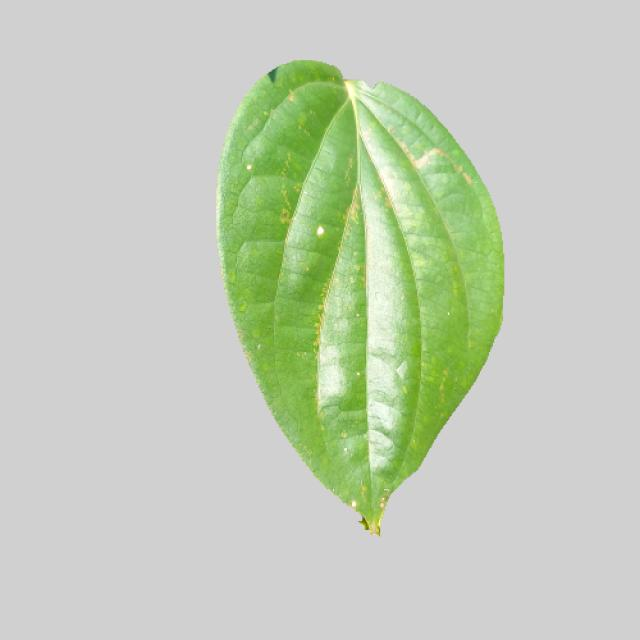healthy: (218, 56, 507, 543)
